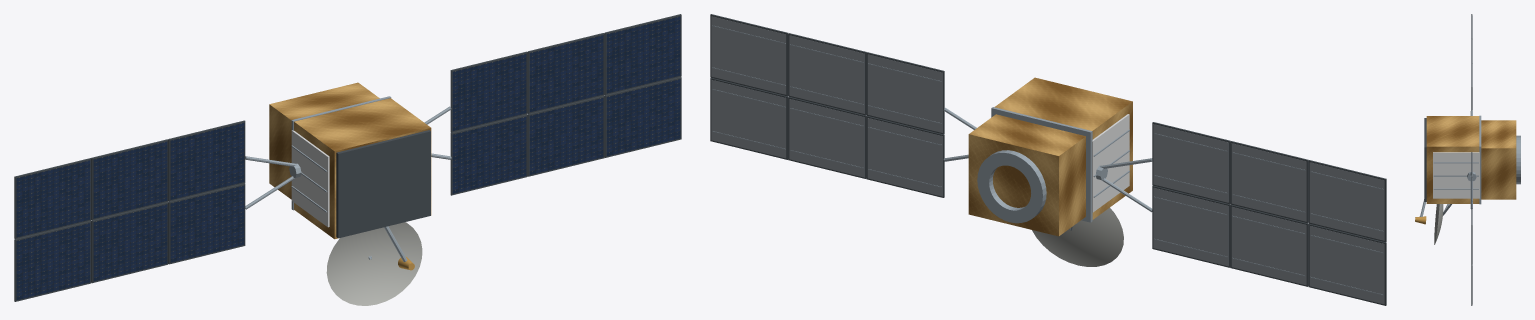
Rendered from ref-ots-10855.glb.
3 views of the same model, side by side, from view 1: azimuth 30°, elevation 25°; view 2: azimuth 150°, elevation 25°; view 3: azimuth 270°, elevation 25° (orthographic). The views are drawn at different scales.
Parts seen in each view (by area): view 1: Solar cell panel (×12), Earth-facing deck, Solar panel frame (×12), Communications reflector, Payload module, Service module, Radiator face; view 2: Rear array substrate (×12), Service module, Solar panel frame (×12), Payload module, Communications reflector, Launch adapter ring, Radiator face, Module interface; view 3: Service module, Payload module, Radiator face, Communications reflector, Earth-facing deck, Launch adapter ring, Solar panel frame (×2), Module interface, Radiator seam (×2).
Part boxes in pixels (left/top/right/bottom): Solar cell panel (×12): left=16, top=16, right=680, bottom=300; Earth-facing deck: left=336, top=130, right=430, bottom=238; Solar panel frame (×12): left=14, top=14, right=681, bottom=301; Communications reflector: left=326, top=222, right=422, bottom=305; Payload module: left=294, top=98, right=431, bottom=239; Service module: left=269, top=82, right=379, bottom=199; Radiator face: left=291, top=130, right=329, bottom=227; Rear array substrate (×12): left=711, top=16, right=1384, bottom=304; Service module: left=968, top=114, right=1085, bottom=236; Solar panel frame (×12): left=710, top=14, right=1386, bottom=305; Payload module: left=994, top=77, right=1132, bottom=219; Communications reflector: left=1032, top=207, right=1123, bottom=266; Launch adapter ring: left=977, top=150, right=1046, bottom=223; Radiator face: left=1092, top=114, right=1129, bottom=212; Module interface: left=991, top=107, right=1092, bottom=222; Service module: left=1481, top=120, right=1516, bottom=199; Payload module: left=1426, top=116, right=1479, bottom=203; Radiator face: left=1433, top=152, right=1479, bottom=198; Communications reflector: left=1434, top=204, right=1443, bottom=244; Earth-facing deck: left=1424, top=118, right=1426, bottom=201; Launch adapter ring: left=1516, top=135, right=1520, bottom=184; Solar panel frame (×2): left=1471, top=62, right=1472, bottom=265; Module interface: left=1479, top=115, right=1481, bottom=204; Radiator seam (×2): left=1433, top=162, right=1478, bottom=189.
Size of the model in its own units: 13.78 by 3.71 by 2.92.
Materials: 8 (2 with a texture image).
